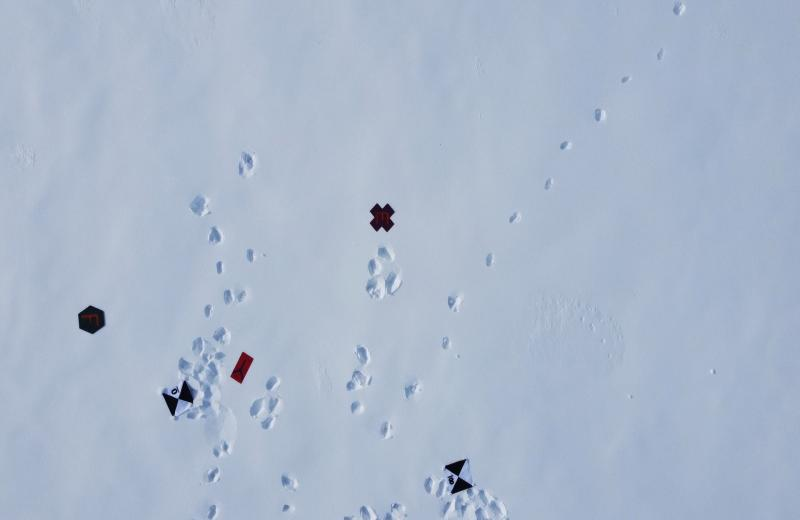Cross: (368, 204, 395, 232)
Hexagon: (78, 305, 107, 333)
Rectangle: (233, 348, 253, 384)
